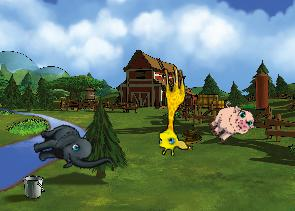elephant: (28, 111, 113, 188)
giraffe: (152, 65, 189, 156)
pig: (203, 95, 259, 151)
